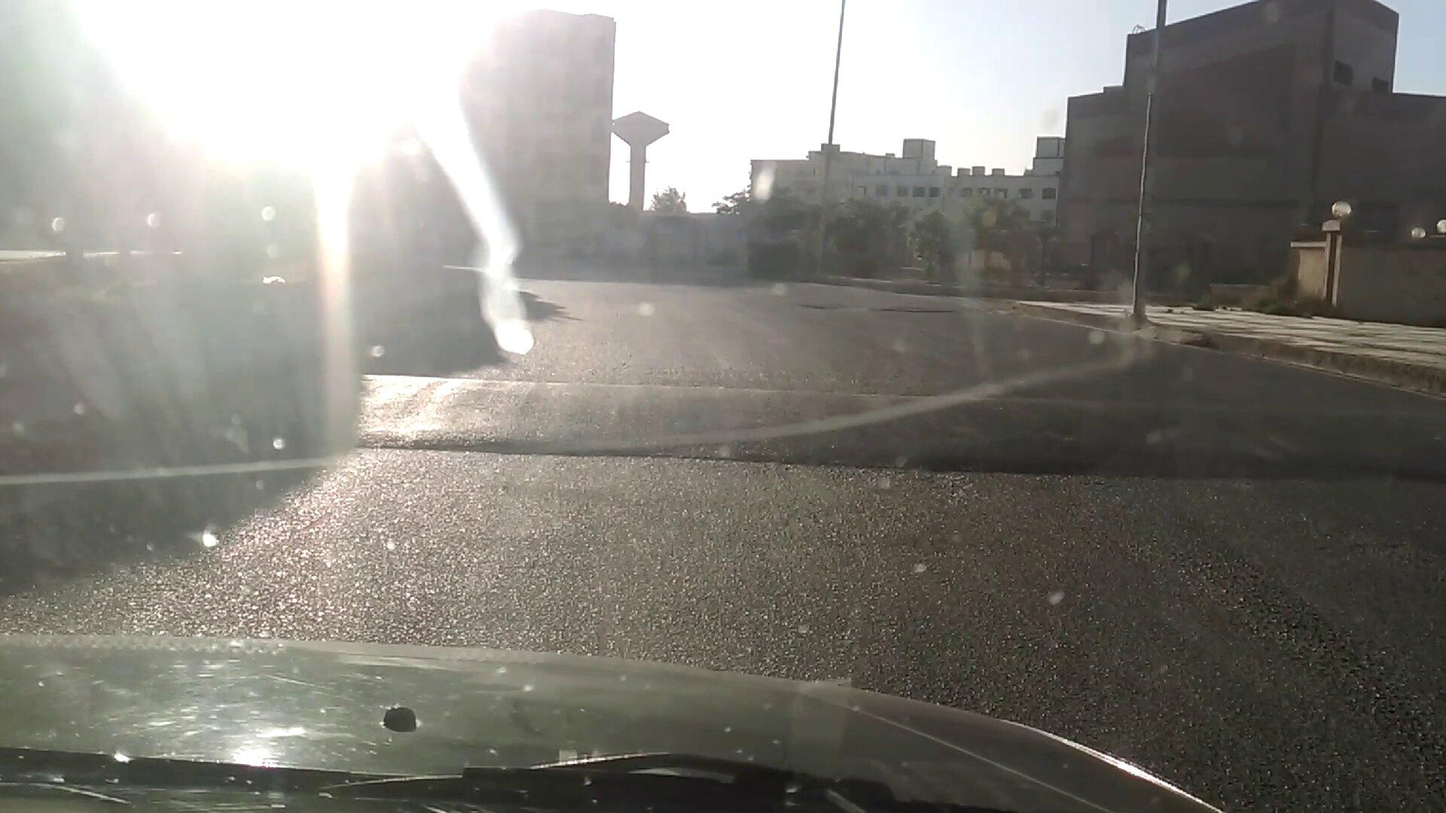Bump: (371, 365, 1446, 491)
